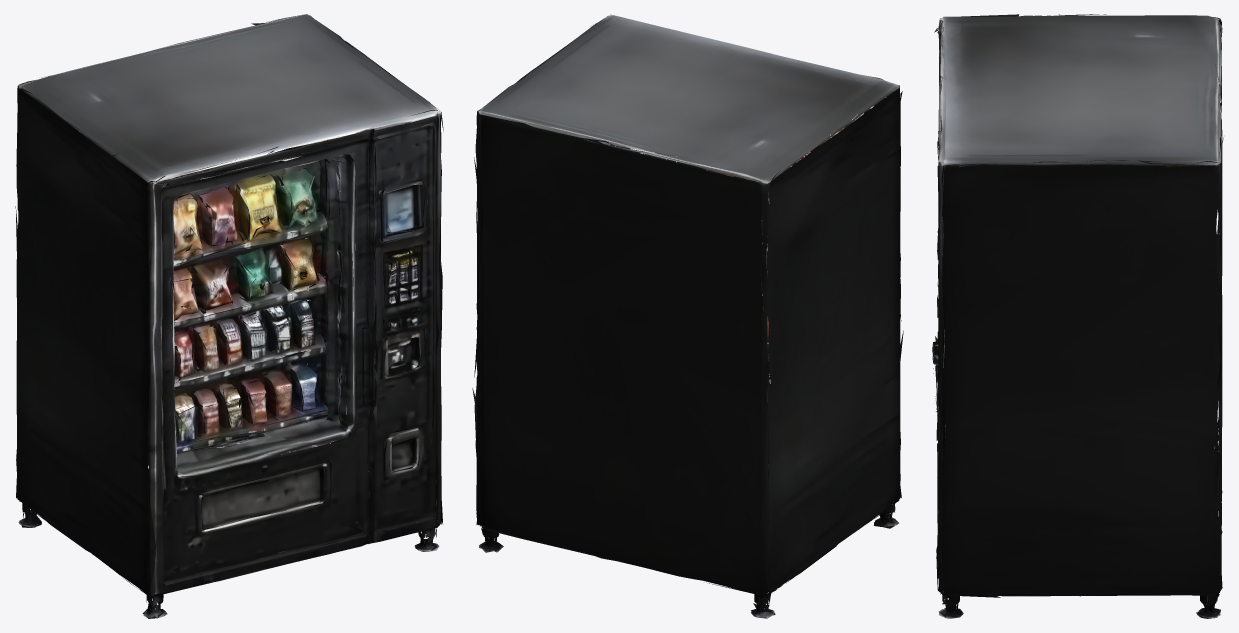
Rendered from vending_machine.glb.
3 views of the same model, side by side, from view 1: azimuth 30°, elevation 25°; view 2: azimuth 150°, elevation 25°; view 3: azimuth 270°, elevation 25° (orthographic). The views are drawn at different scales.
Visible parts, largest first — view 1: vending_machine; view 2: vending_machine; view 3: vending_machine.
Boxes of the visible parts, x1,y1,x2,y2 form: vending_machine: (15,14,443,618); vending_machine: (472,14,903,618); vending_machine: (932,14,1223,618).
Size of the model in its own units: 1.3 by 1.85 by 1.07.
Materials: 1 (1 with a texture image).
